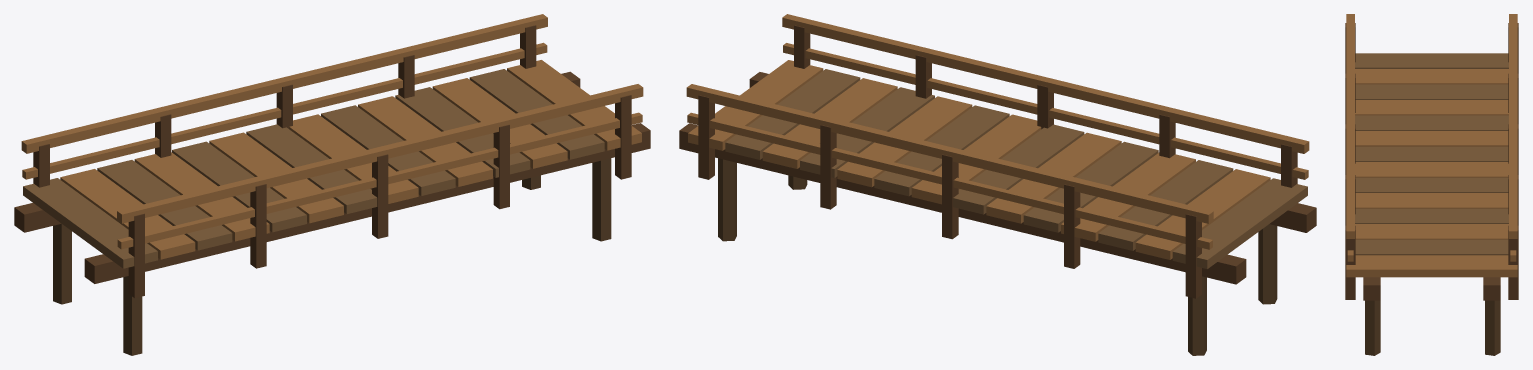
The model's file is bridge_small_wood.glb.
3 renders of one model, left to right at view 1: azimuth 30°, elevation 25°; view 2: azimuth 150°, elevation 25°; view 3: azimuth 270°, elevation 25°, orthographic. The views are drawn at different scales.
Parts seen in each view (by area): view 1: bridge_small_wood; view 2: bridge_small_wood; view 3: bridge_small_wood.
Boxes of the visible parts, x1,y1,x2,y2 form: bridge_small_wood: (14, 14, 650, 355); bridge_small_wood: (679, 14, 1316, 355); bridge_small_wood: (1345, 14, 1518, 355).
Size of what is drawn, in the model's own units: 6.4 by 1.7 by 2.02.
